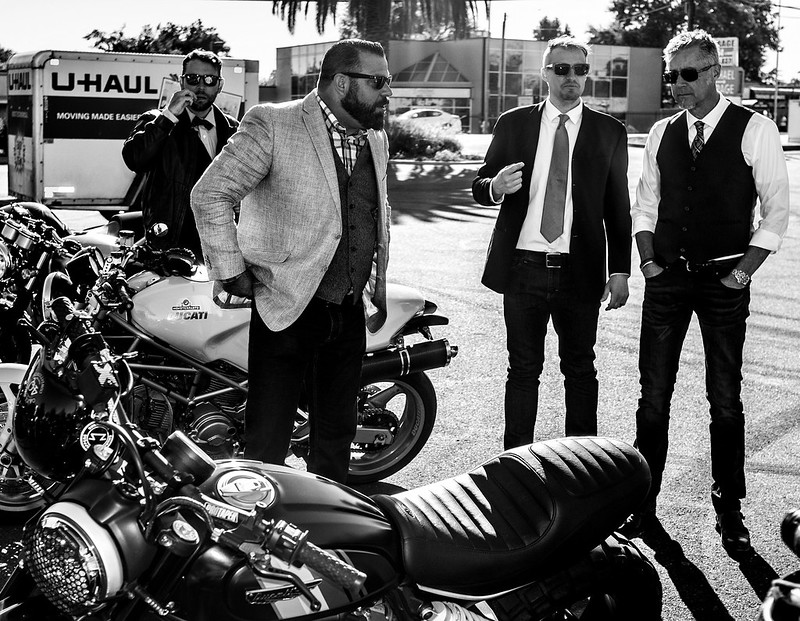phone: (168, 74, 196, 107)
